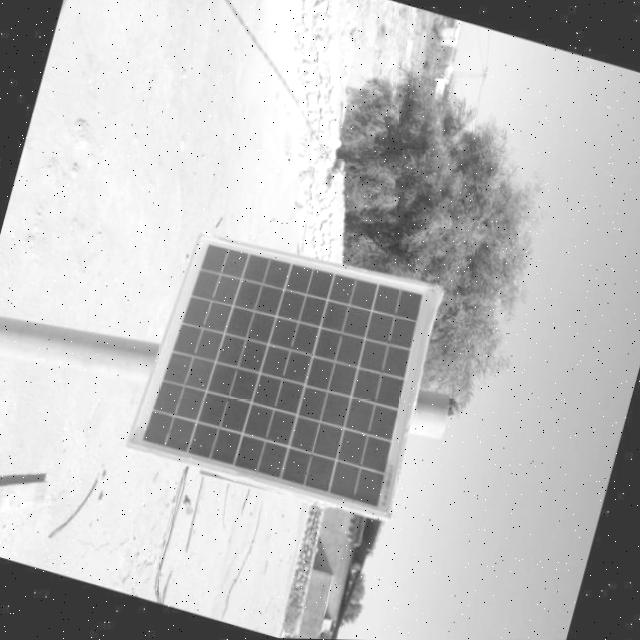Normal Solar Panel: (126, 216, 452, 526)
